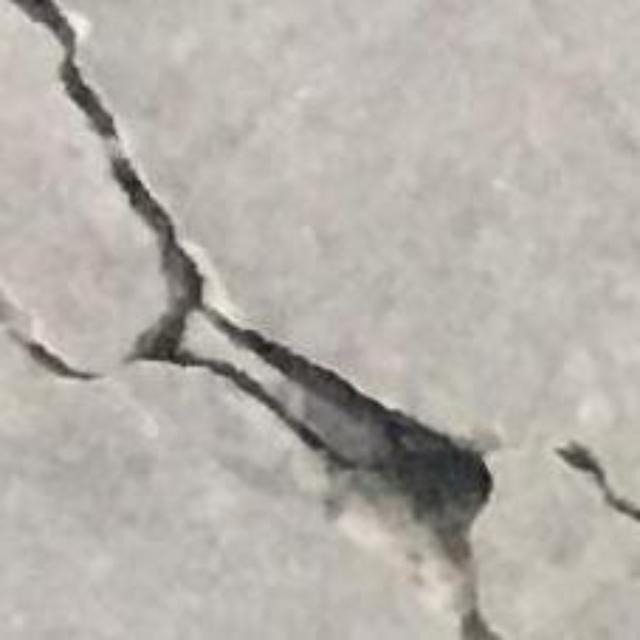crack: (110, 153, 499, 639)
